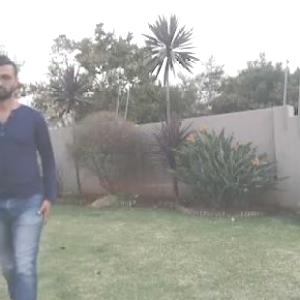follow: (1, 67, 56, 299)
